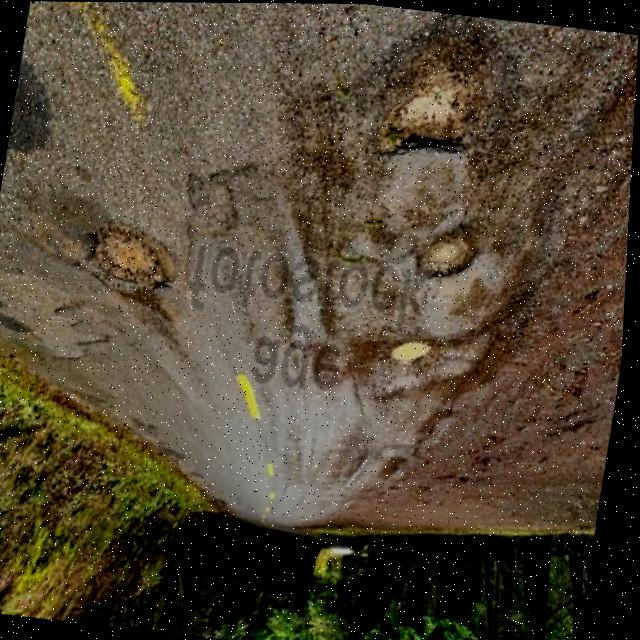Pothole: (366, 63, 487, 178), (67, 207, 190, 320), (411, 214, 490, 295), (387, 332, 443, 374)
